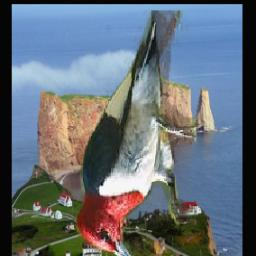Woodpecker: (74, 10, 197, 256)
